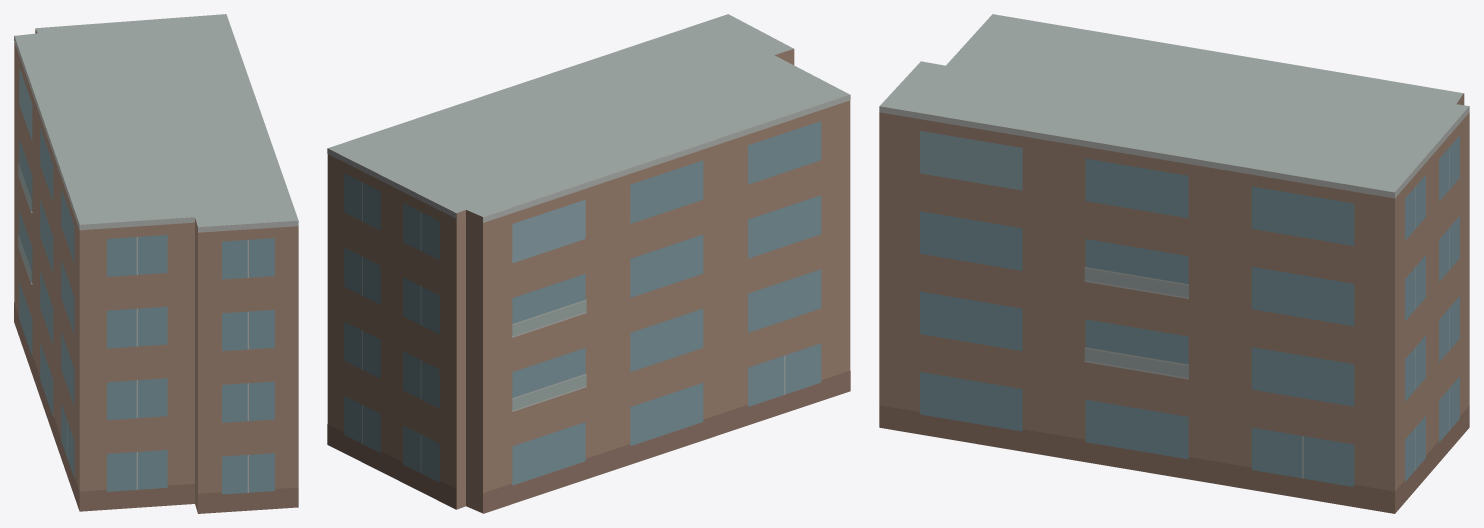
The model's file is survey-upis-32824273.glb.
3 views of the same model, side by side, from view 1: azimuth 30°, elevation 25°; view 2: azimuth 150°, elevation 25°; view 3: azimuth 270°, elevation 25° (orthographic). The views are drawn at different scales.
Visible parts, largest first — view 1: survey-upis-32824273.tmp; view 2: survey-upis-32824273.tmp; view 3: survey-upis-32824273.tmp.
Part boxes in pixels (x1,y1,x2,y2): survey-upis-32824273.tmp: (14, 14, 298, 513); survey-upis-32824273.tmp: (327, 14, 850, 513); survey-upis-32824273.tmp: (879, 14, 1469, 513).
Bounding box in the file's own units: 15.37 × 12.9 × 21.48.
